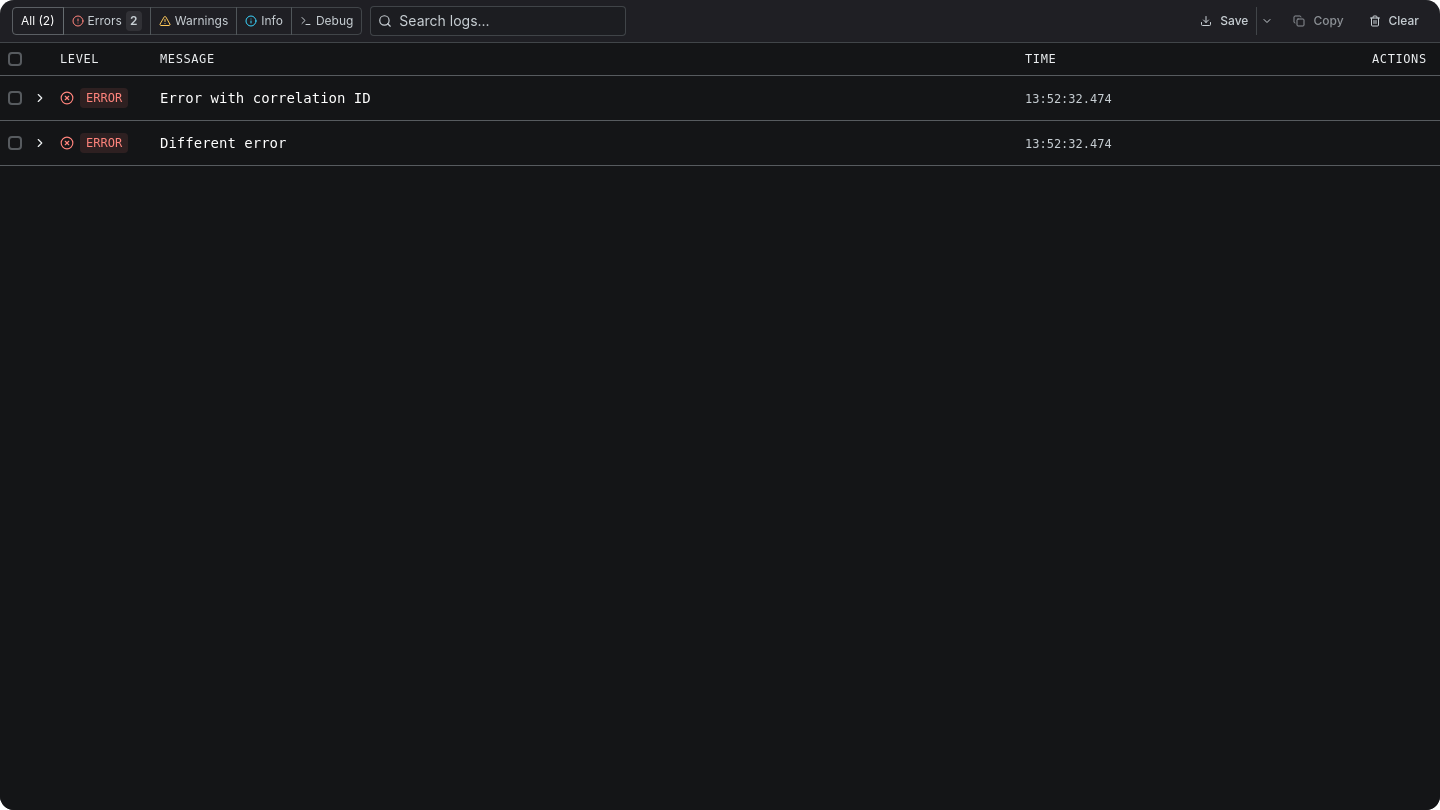
Test: ConsolePanel › filters logs by full-text search in correlation ID
Expected: the row with test id "console-log-row-corr-log-1" is shown, [0,76,1439,120]
// Search by partial correlation ID (first 8 chars should match)
Type "7c7c06ef" into the field with test id "console-search-input". click: (498, 21)
box: [370,6,626,36]
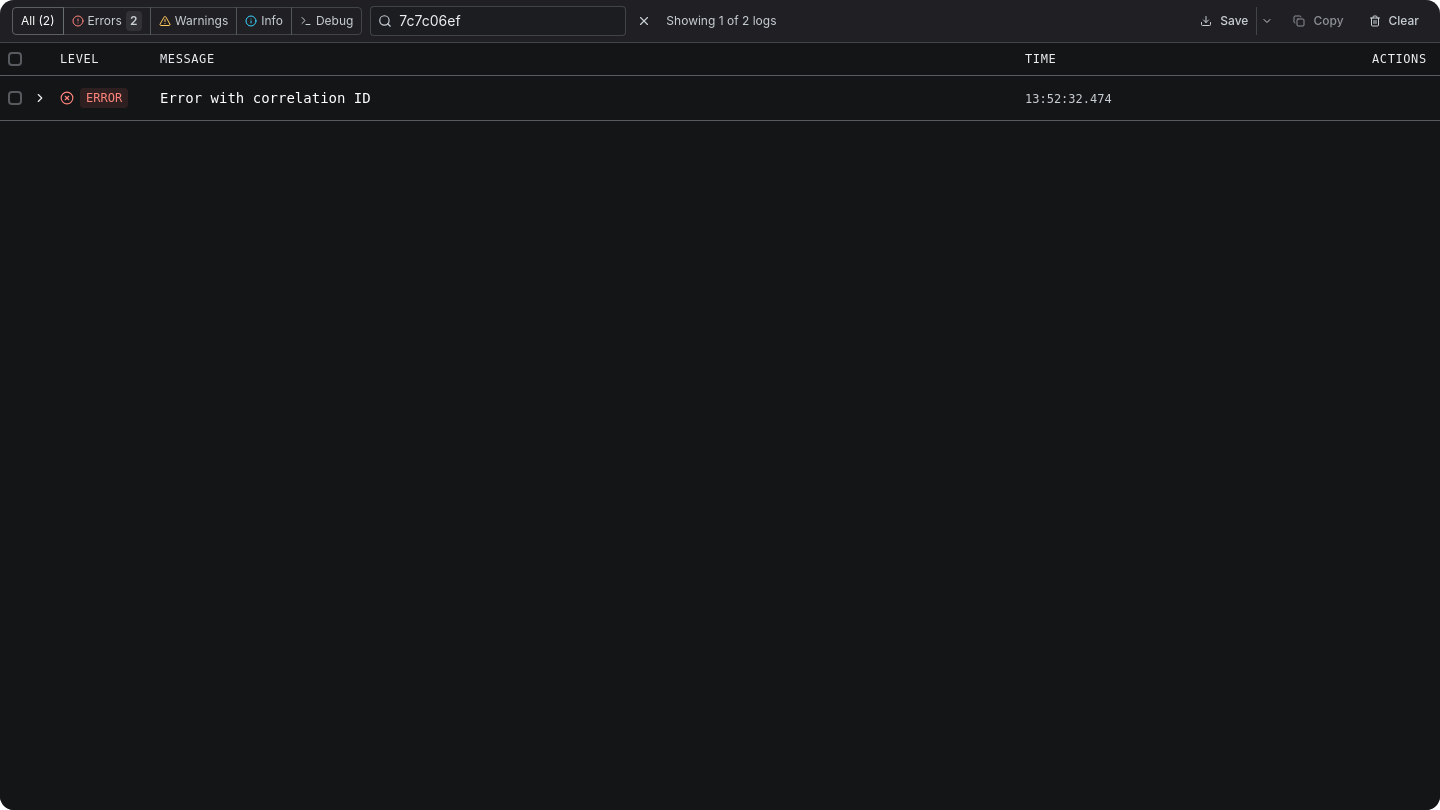
Expected: the row with test id "console-log-row-corr-log-1" is shown, [0,76,1439,120]
Expected: the row with test id "console-log-row-corr-log-2" is gone
